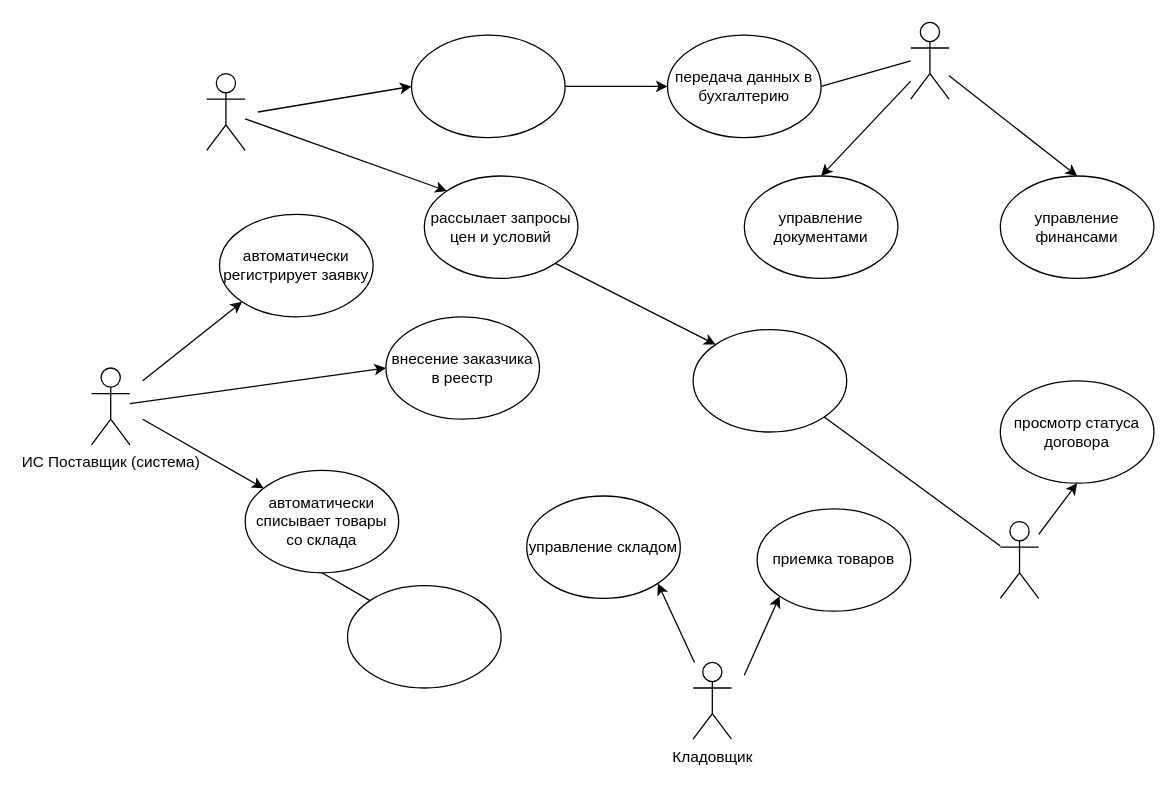
Image size: 1176x788. Some labels were removed from this diagram. Here are the shapes that lost their labels. From the top down, the centre of each, then its label:
point (929, 60): Бухгалтер
point (487, 86): формирование заявки на покупку
point (225, 111): Закупщик
point (769, 380): присылает комерческое предложение
point (1019, 559): Поставщик
point (423, 636): автоматически формирует отчет по закупке
